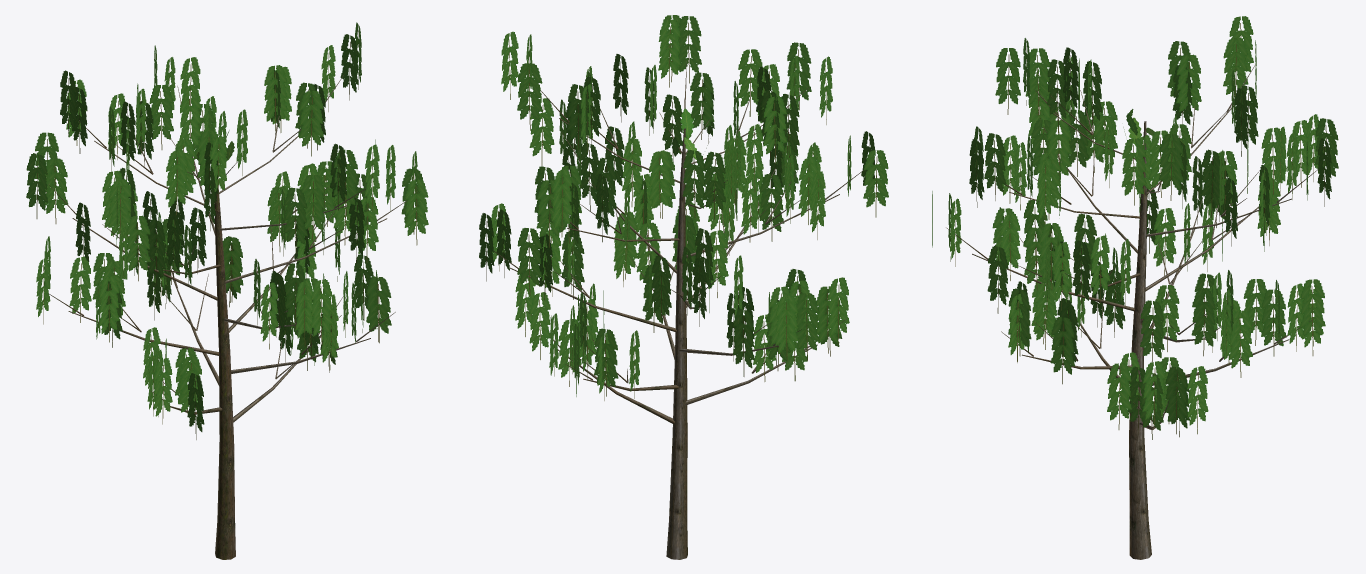
The model's file is oak-mid.gltf.
3 renders of one model, left to right at view 1: azimuth 30°, elevation 25°; view 2: azimuth 150°, elevation 25°; view 3: azimuth 270°, elevation 25°, orthographic. The views are drawn at different scales.
Bounding box in the file's own units: 0.7582 × 1 × 0.7687.
2 materials, 2 textured.
